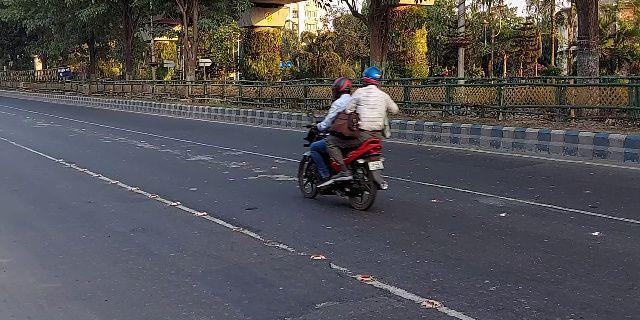Motorbike: (292, 67, 399, 220)
